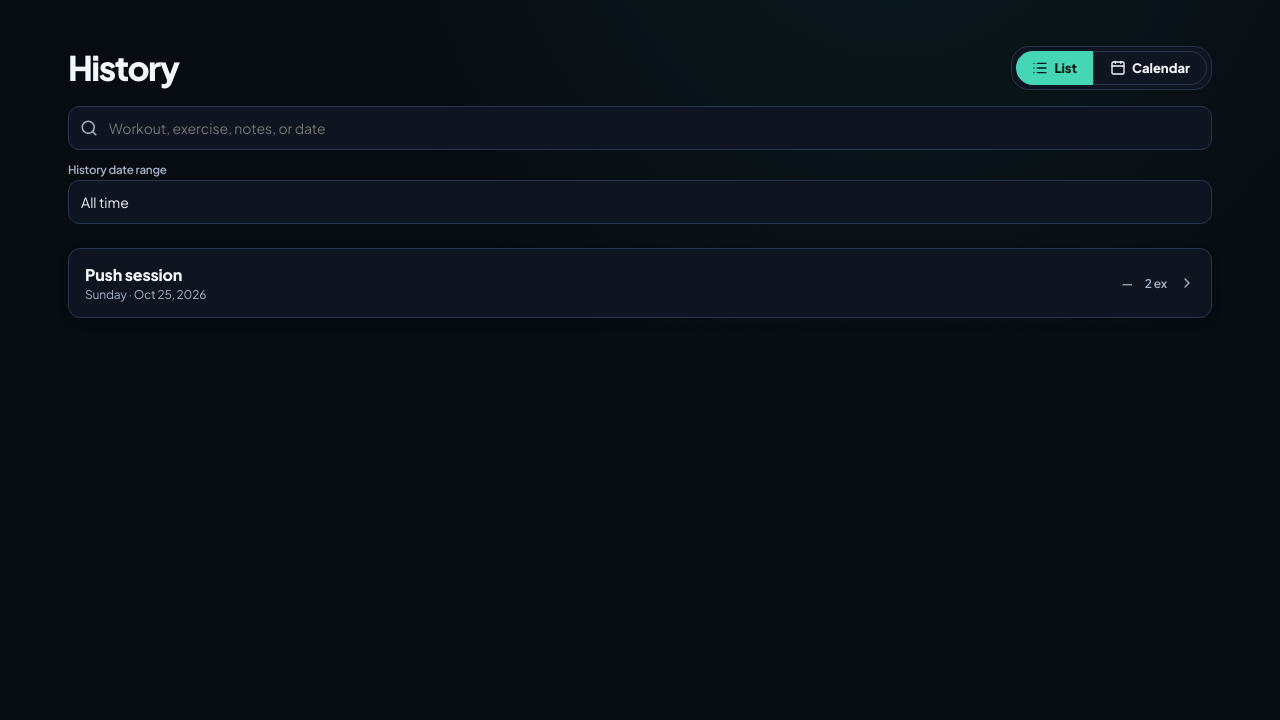
Test: repeat confirmation › reports missing exercises and cancellation performs no write
Click the text "Push session" at (134, 274), box [85,264,182,285]
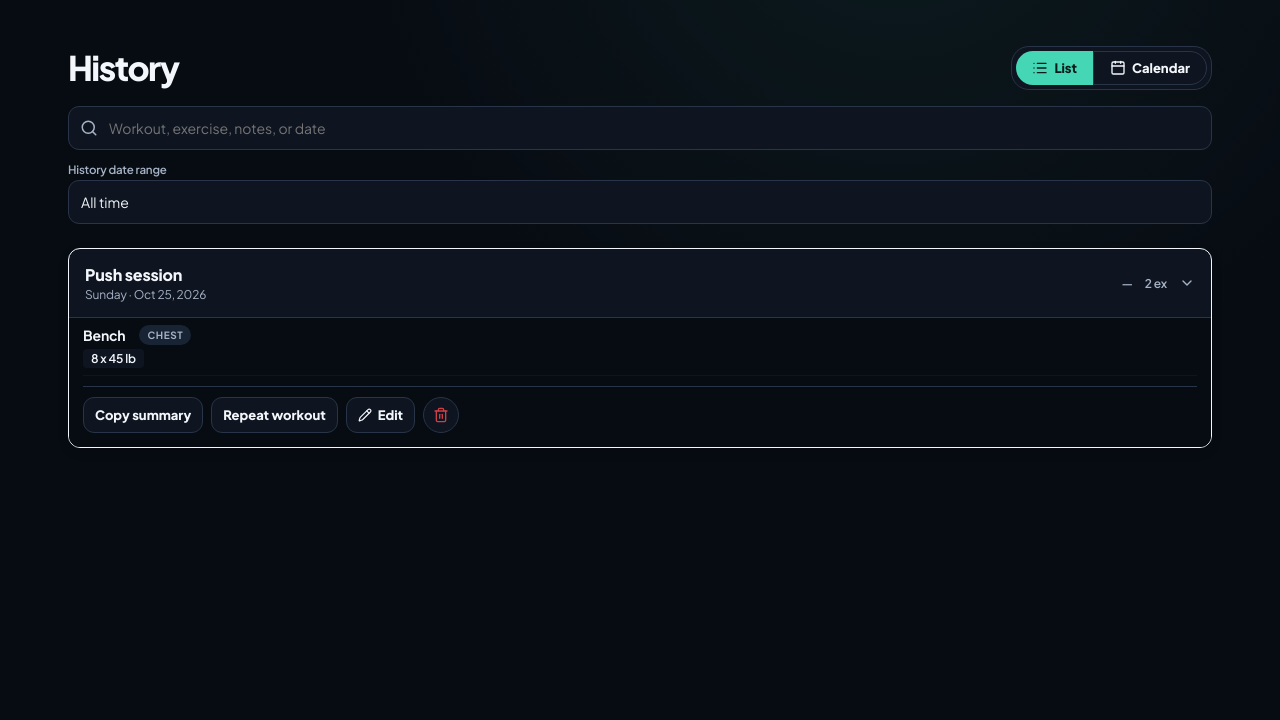
Click the button "Repeat workout" at (274, 415), box [211,397,338,433]
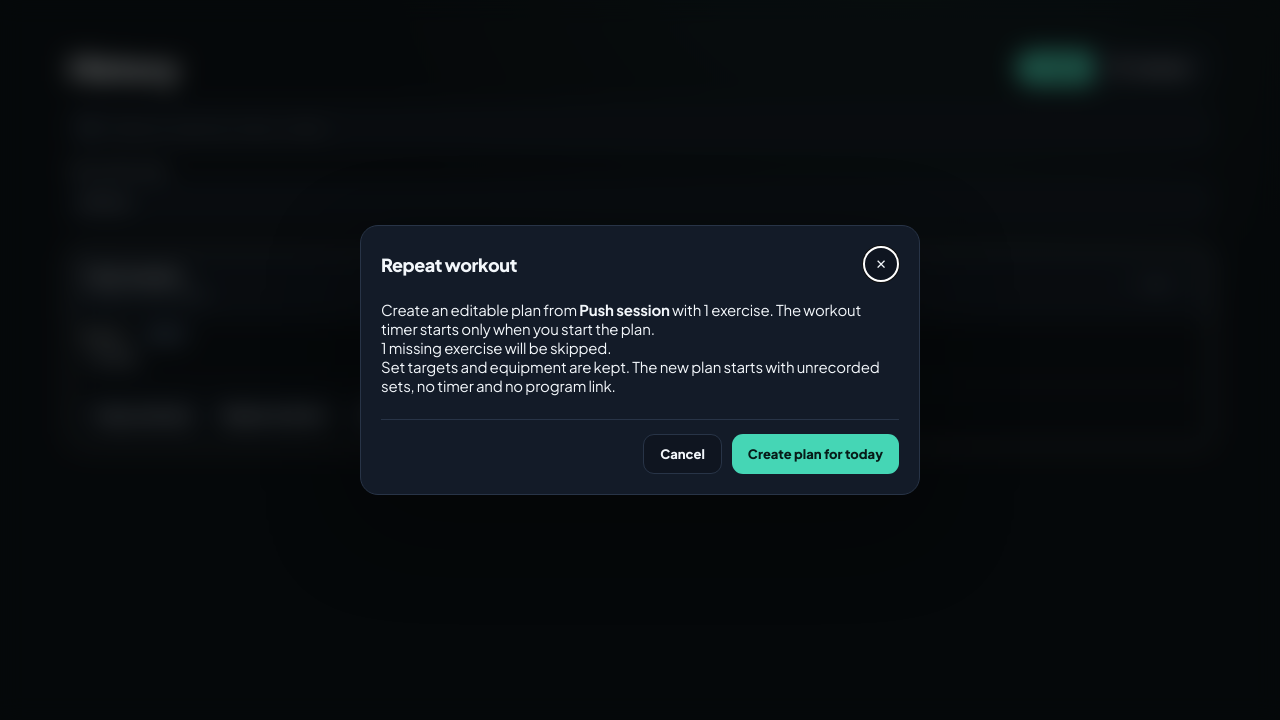
Result: the text "1 missing exercise will be skipped." is shown at [381,338,611,357]
Click the button "Cancel" at (683, 454), box [643,434,722,474]
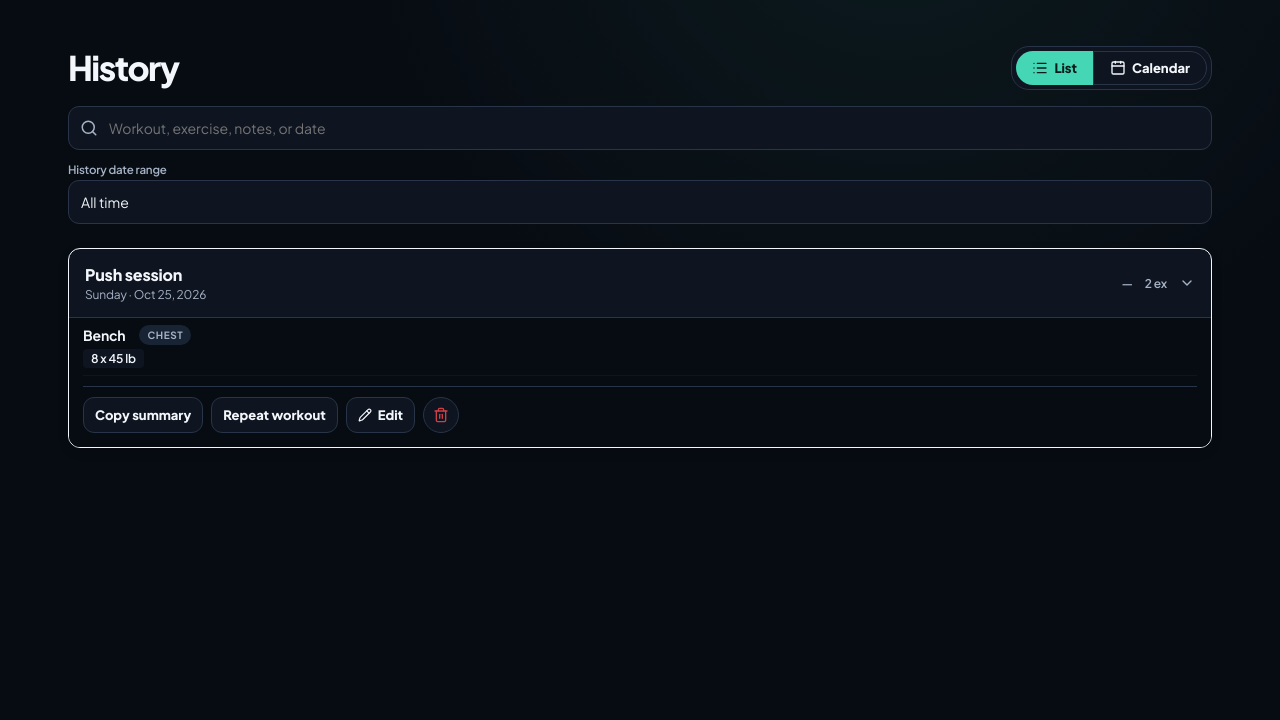
Result: the dialog is gone
